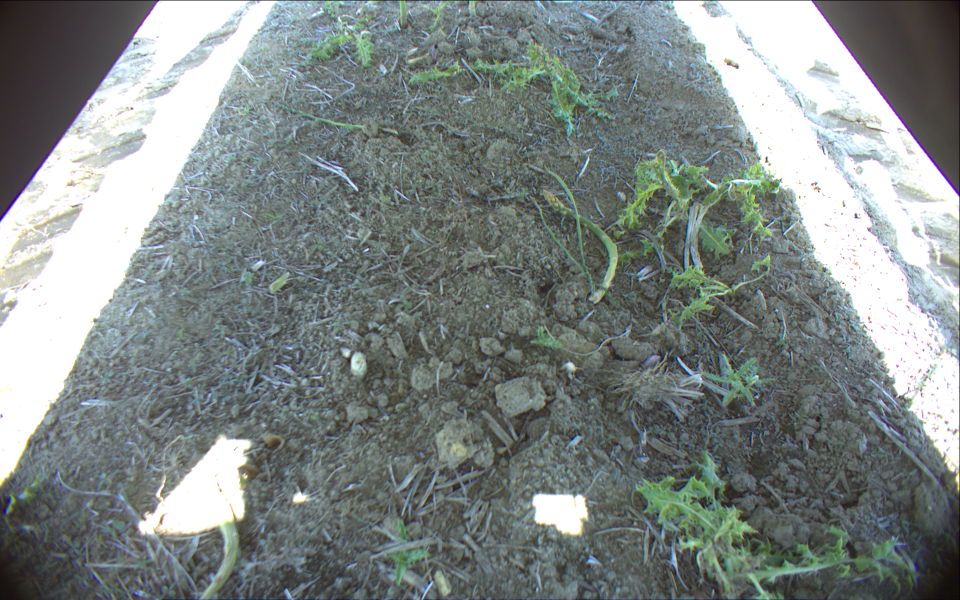aspa: (545, 191, 619, 304), (536, 165, 599, 293), (198, 469, 238, 600), (271, 100, 399, 135), (267, 272, 292, 293), (399, 1, 408, 29), (468, 1, 476, 19)
